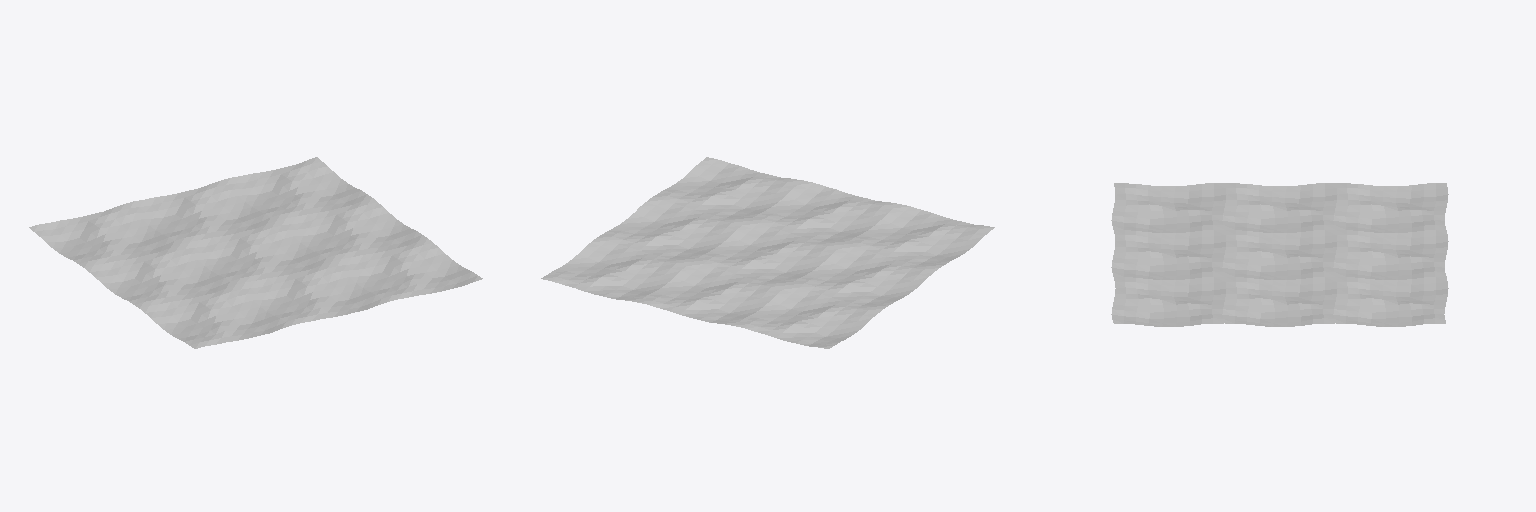
File: ocean_000234.obj
The picture shows the model from 3 angles: view 1: azimuth 30°, elevation 25°; view 2: azimuth 150°, elevation 25°; view 3: azimuth 270°, elevation 25°; orthographic projection.
Parts seen in each view (by area): view 1: Ocean_Plan.001; view 2: Ocean_Plan.001; view 3: Ocean_Plan.001.
Boxes of the visible parts, <box> form: Ocean_Plan.001: <box>29,157,482,348</box>; Ocean_Plan.001: <box>541,157,994,348</box>; Ocean_Plan.001: <box>1111,183,1448,326</box>.
Bounding box in the file's own units: 109091 × 2100 × 110300.